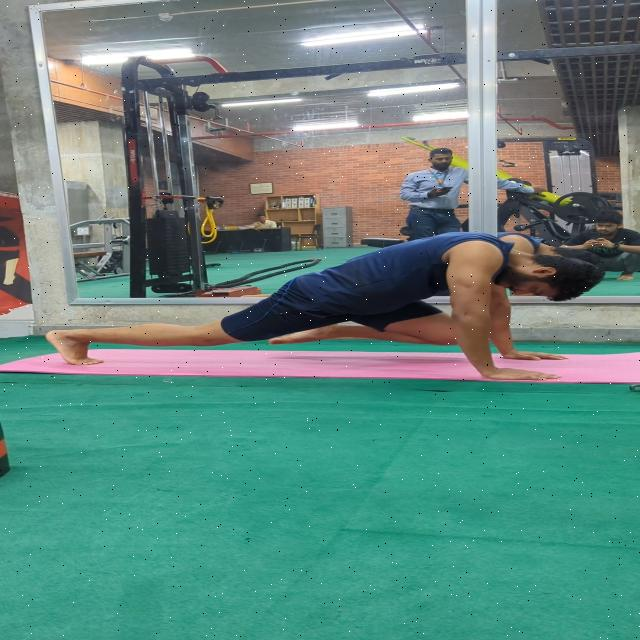Normal_MountainClimbers: (26, 231, 606, 398)
